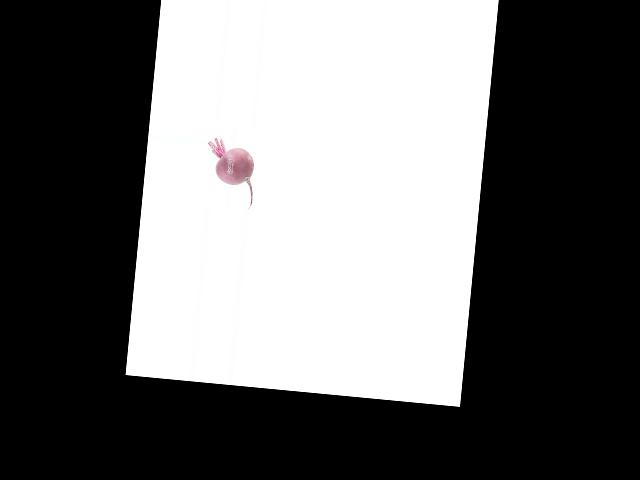beet: (202, 137, 257, 210)
